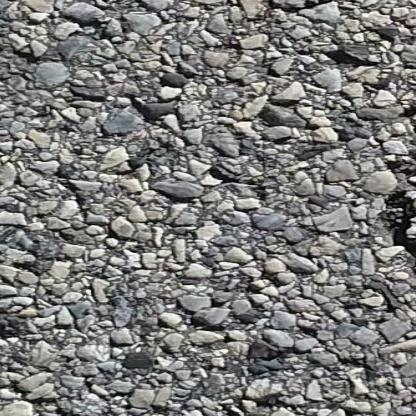Cracks: (384, 103, 416, 277), (259, 0, 416, 17)
